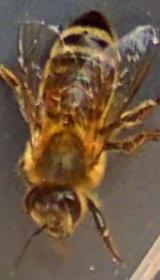varroa_mite: (36, 79, 66, 113)
